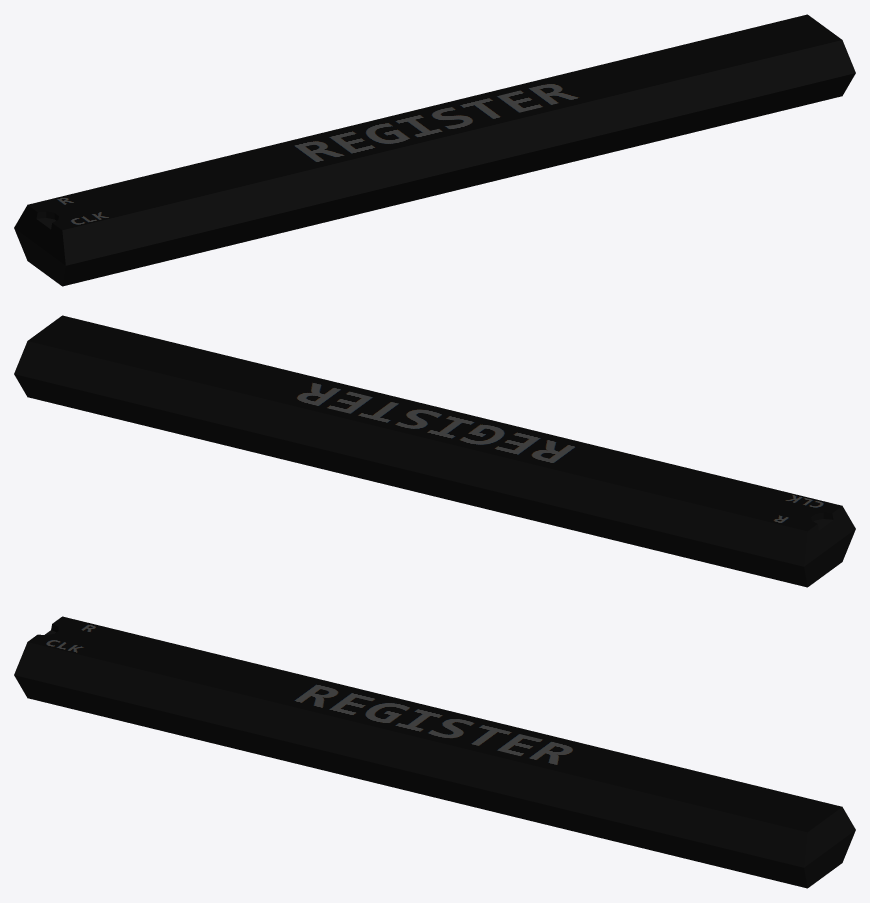
Rendered from modelT.obj.
3 renders of one model, top to bottom at view 1: azimuth 30°, elevation 25°; view 2: azimuth 150°, elevation 25°; view 3: azimuth 330°, elevation 25°, orthographic.
Visible parts, largest first — view 1: Cube.017; view 2: Cube.017; view 3: Cube.017.
Boxes of the visible parts, x1=… form: Cube.017: x1=14, y1=14, x2=855, y2=286; Cube.017: x1=14, y1=315, x2=855, y2=587; Cube.017: x1=14, y1=616, x2=855, y2=888.
Bounding box in the file's own units: 8.8 × 0.5984 × 1.
2 materials, 1 textured.
